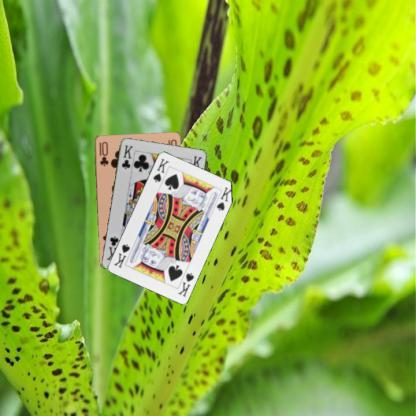10c: (96, 139, 110, 167)
Kc: (119, 143, 134, 170)
Ks: (175, 270, 195, 298), (150, 156, 170, 183)
